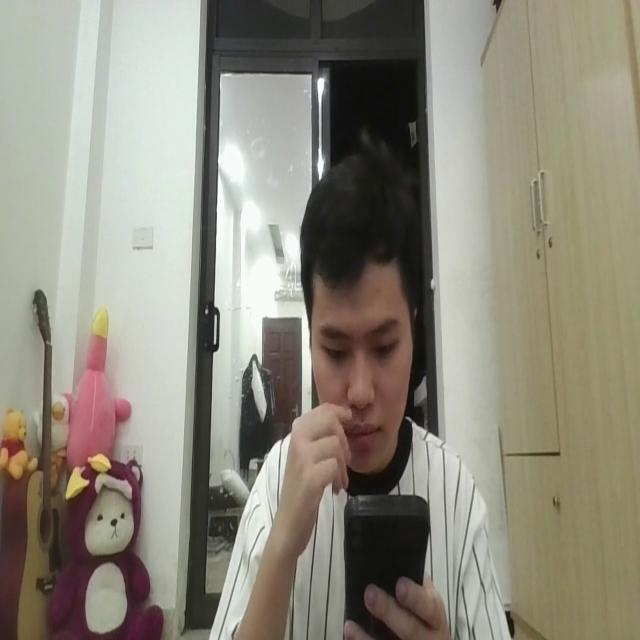phone: (343, 483, 428, 640)
student: (218, 138, 510, 640)
